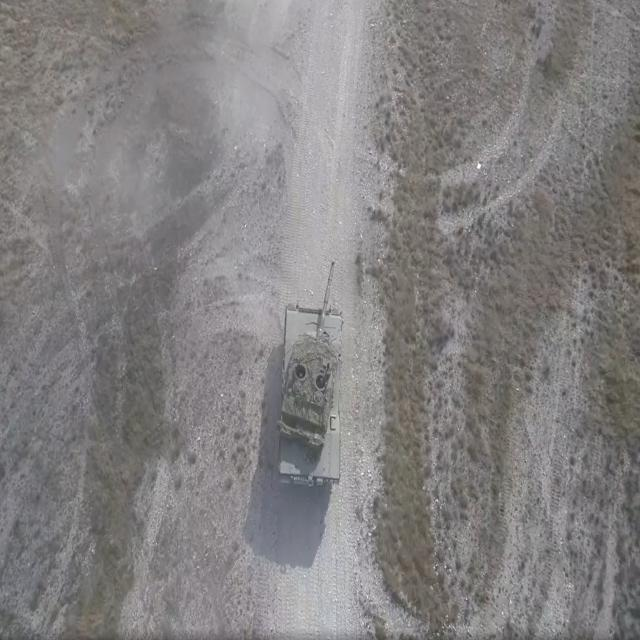tank: (274, 253, 348, 488)
